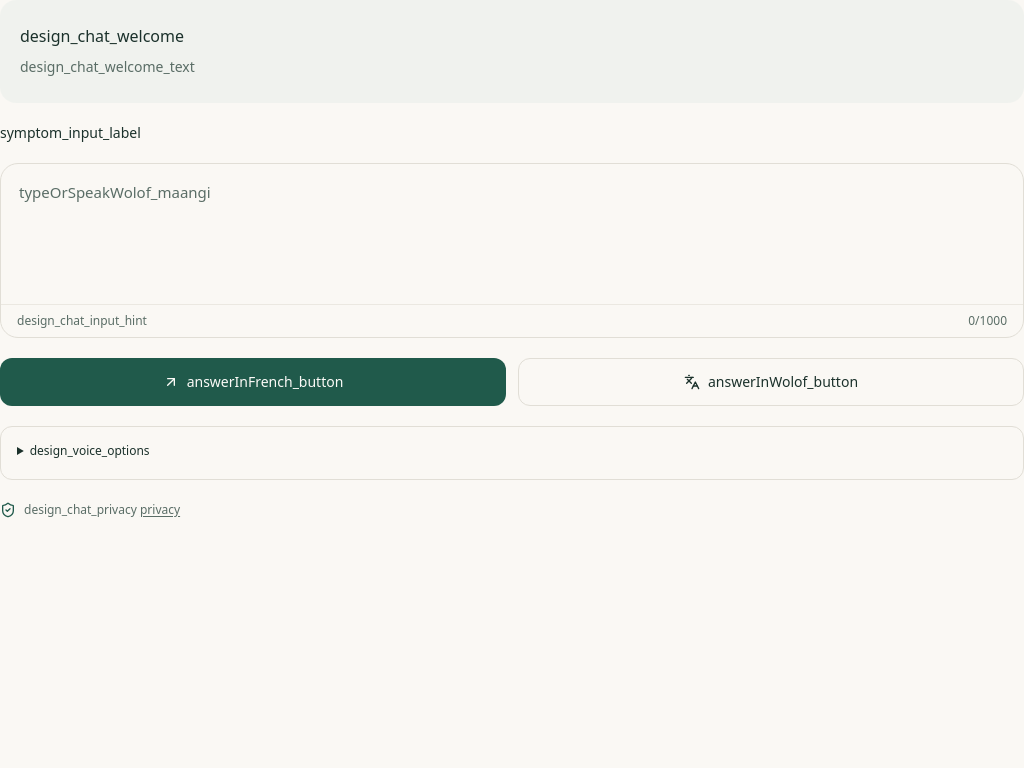
AI conversation transport and language › sends age confirmation to the protected API and renders the returned answer
Type "Test symptoms" into the text box labelled "symptom_input_label" at (512, 234), box [1, 164, 1023, 304]
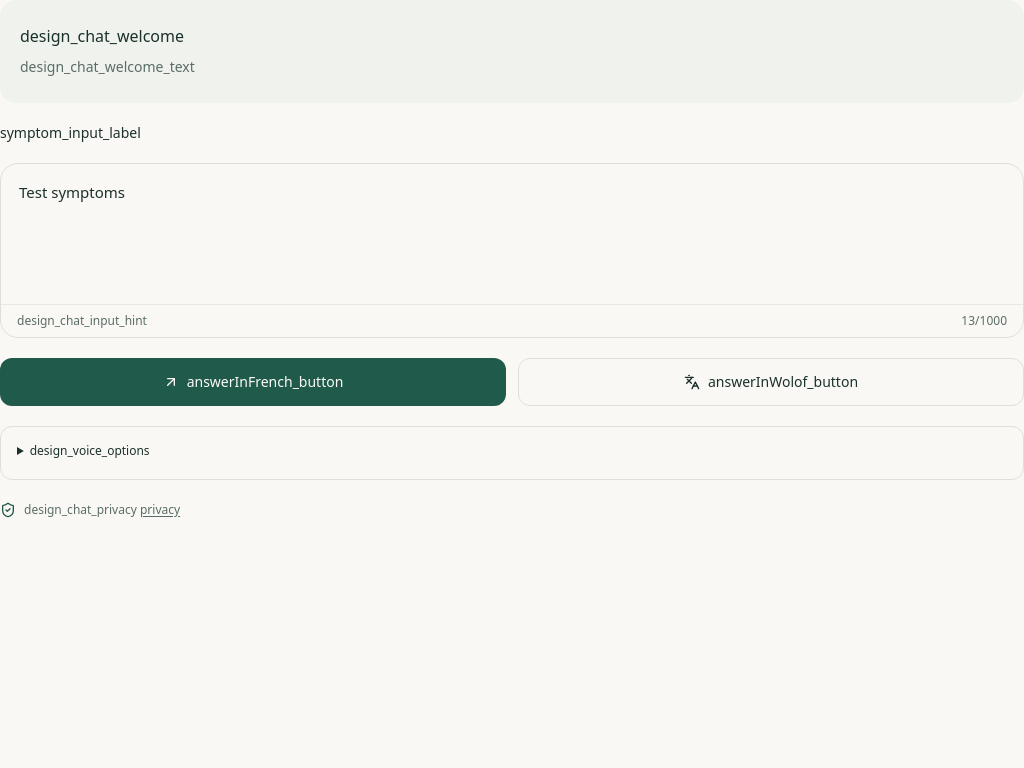
Click the button "answerInFrench_button" at (253, 382), box [0, 358, 506, 406]
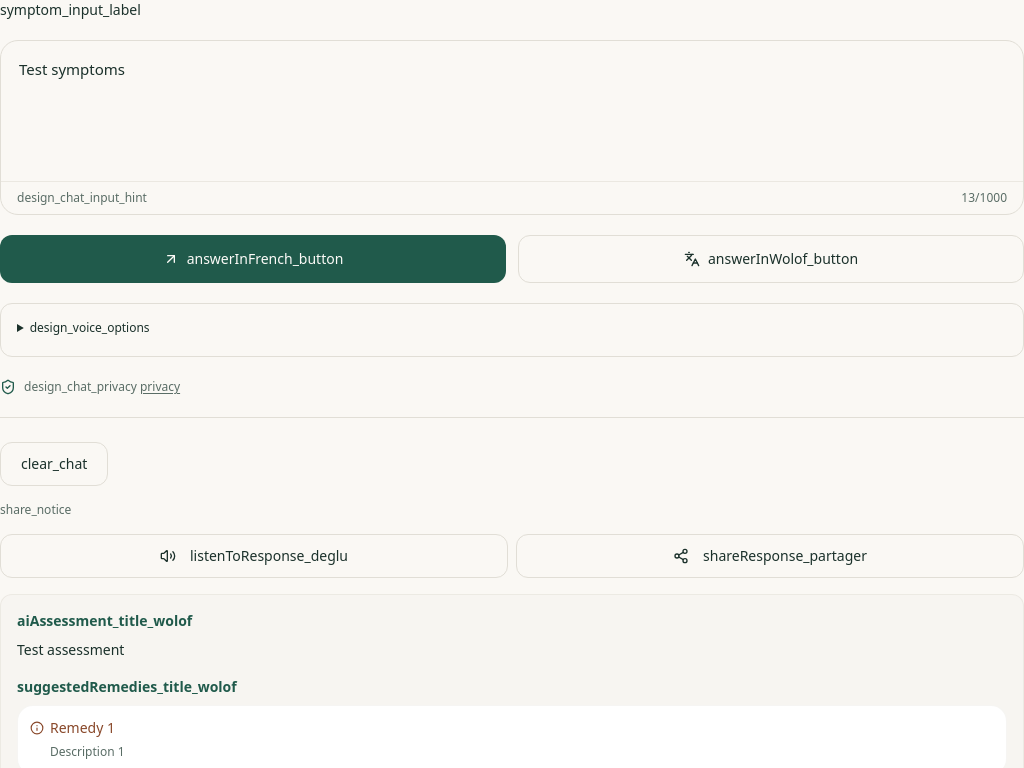
Check: the text "Test assessment" is shown, box [17, 640, 124, 658]
